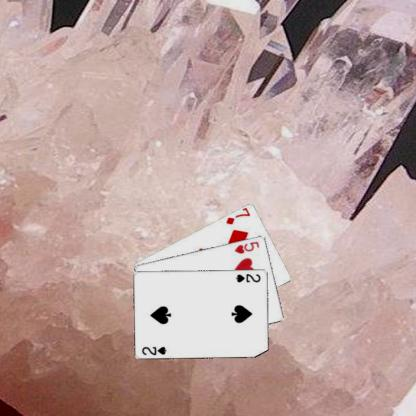2S: (233, 271, 262, 283), (139, 344, 168, 356)
5H: (232, 238, 261, 254)
7D: (223, 206, 252, 226)
